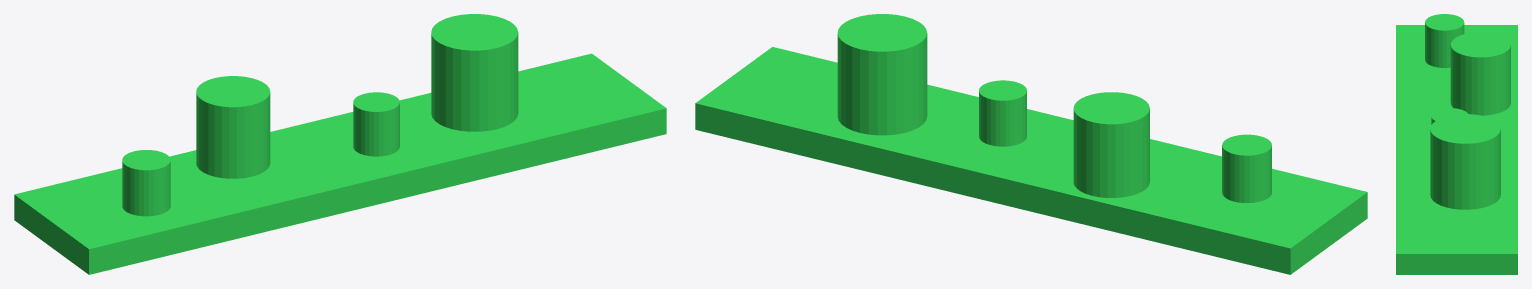
File: Food_box.fbx
3 renders of one model, left to right at view 1: azimuth 30°, elevation 25°; view 2: azimuth 150°, elevation 25°; view 3: azimuth 270°, elevation 25°, orthographic. The views are drawn at different scales.
Visible parts, largest first — view 1: Cube.018; view 2: Cube.018; view 3: Cube.018.
Part boxes in pixels (x1,y1,x2,y2): Cube.018: [14, 14, 666, 274]; Cube.018: [695, 14, 1367, 274]; Cube.018: [1396, 14, 1517, 274].
Size of the model in its own units: 215 by 37.99 by 48.24.
